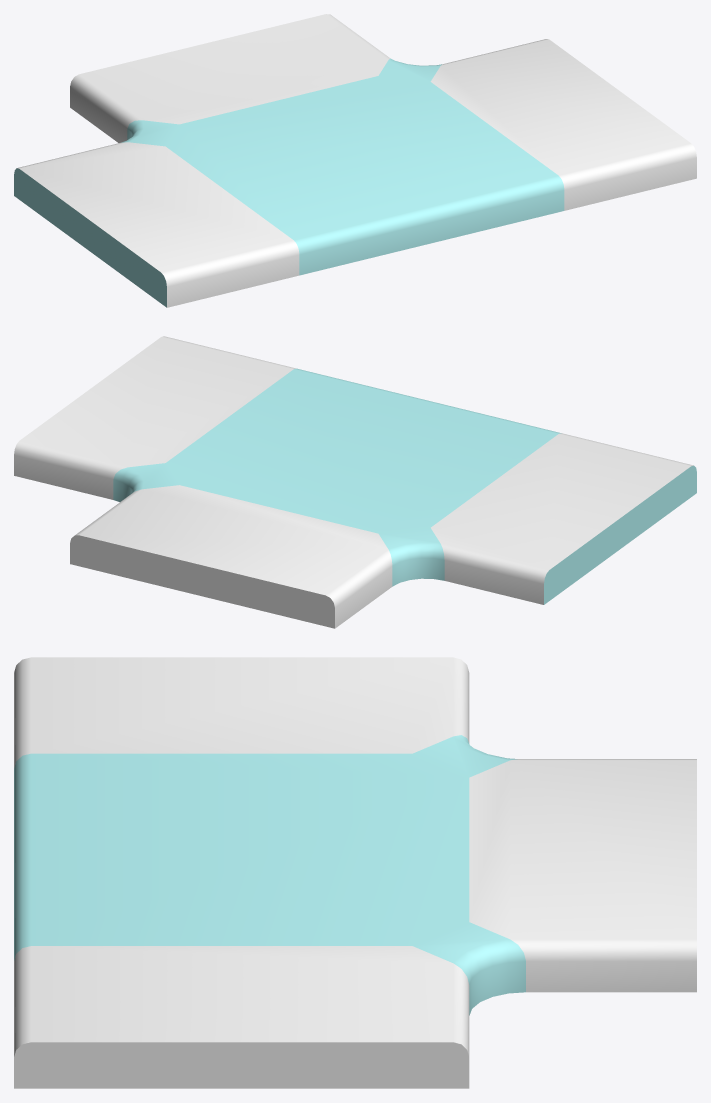
File: IntersectionSmall_blue.fbx
3 views of the same model, one above another, from view 1: azimuth 30°, elevation 25°; view 2: azimuth 150°, elevation 25°; view 3: azimuth 270°, elevation 25° (orthographic). The views are drawn at different scales.
Visible parts, largest first — view 1: IntersectionSmall; view 2: IntersectionSmall; view 3: IntersectionSmall.
Boxes of the visible parts, box(x1,y1,x2,y2) form: IntersectionSmall: box(14, 14, 696, 307); IntersectionSmall: box(14, 336, 696, 628); IntersectionSmall: box(14, 657, 696, 1088).
Bounding box in the file's own units: 600 × 33.61 × 450.
1 material, 1 textured.
